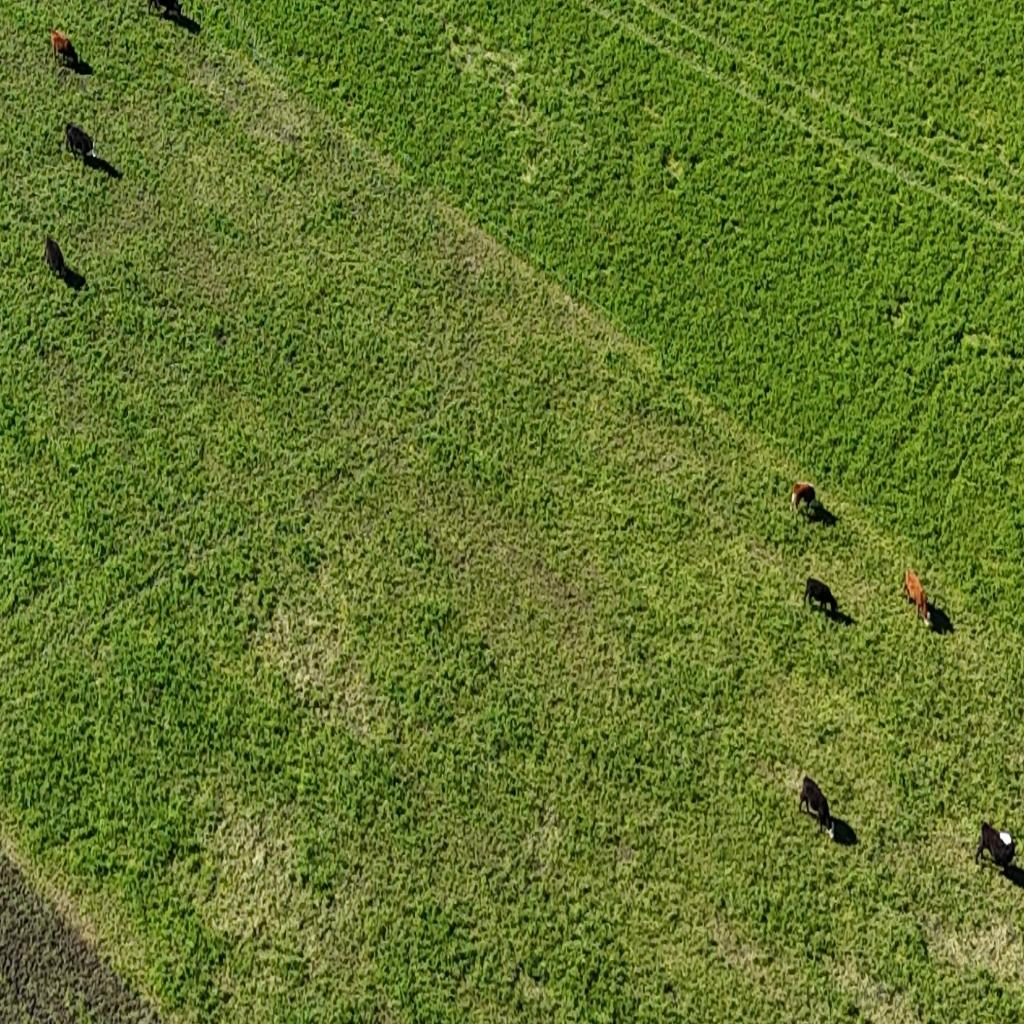cow: (905, 568, 953, 634), (64, 122, 110, 174), (801, 775, 836, 842), (973, 821, 1015, 873), (44, 235, 83, 289), (50, 28, 86, 75), (803, 576, 837, 618), (790, 482, 816, 521)
